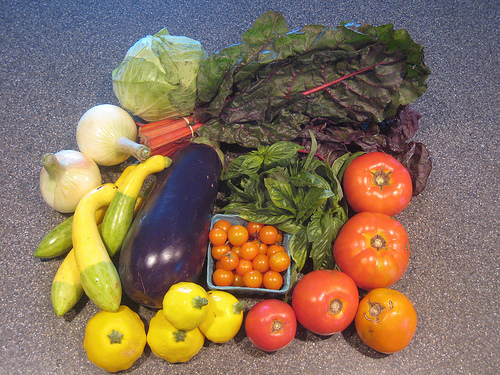cabbage: (112, 27, 208, 123)
